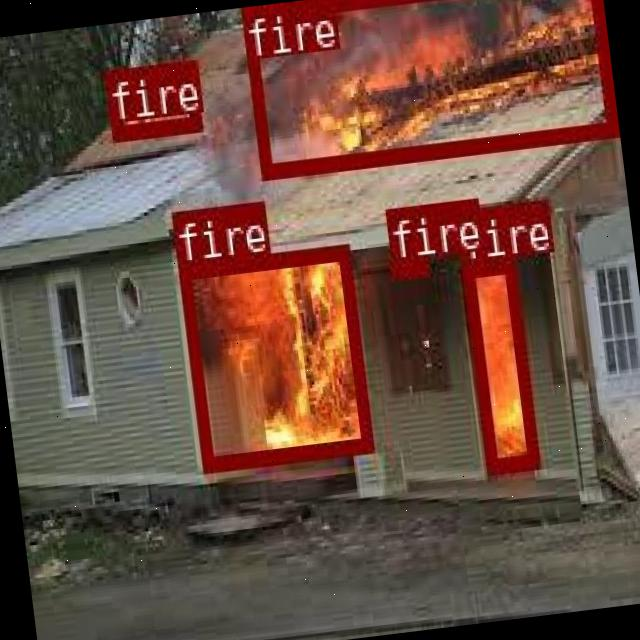fire: (238, 0, 614, 174), (176, 243, 370, 468), (460, 254, 538, 472), (102, 59, 198, 137), (389, 254, 427, 277)
